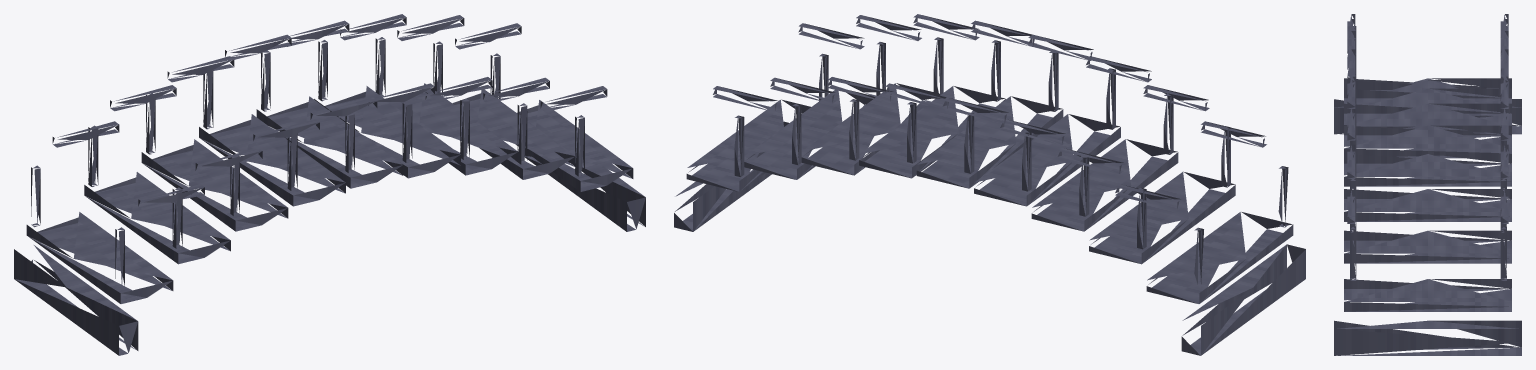
Rendered from KGB_Moonfall_CurvedBridge_v16_lod1.glb.
The picture shows the model from 3 angles, left to right: view 1: azimuth 30°, elevation 25°; view 2: azimuth 150°, elevation 25°; view 3: azimuth 270°, elevation 25°; orthographic projection. The views are drawn at different scales.
Parts seen in each view (by area): view 1: world; view 2: world; view 3: world.
Part boxes in pixels (box(x1,y1,x2,y2)): world: box(14, 14, 645, 355); world: box(674, 14, 1305, 355); world: box(1334, 14, 1521, 355).
Bounding box in the file's own units: 11 × 3.69 × 3.8.
Materials: 1 (1 with a texture image).
